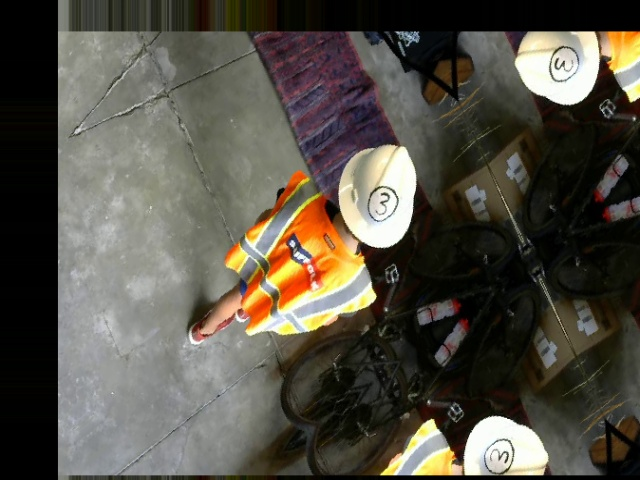three: (361, 177, 402, 227)
